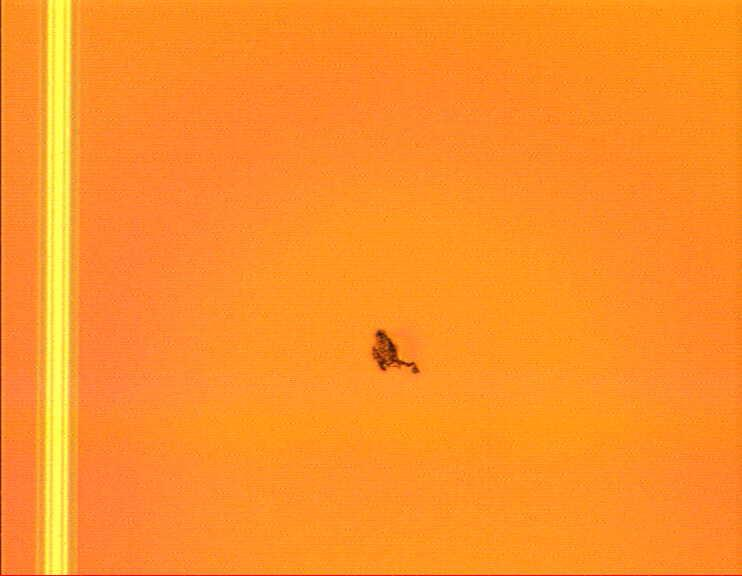PIQ PARTICLE: (368, 328, 423, 377)
